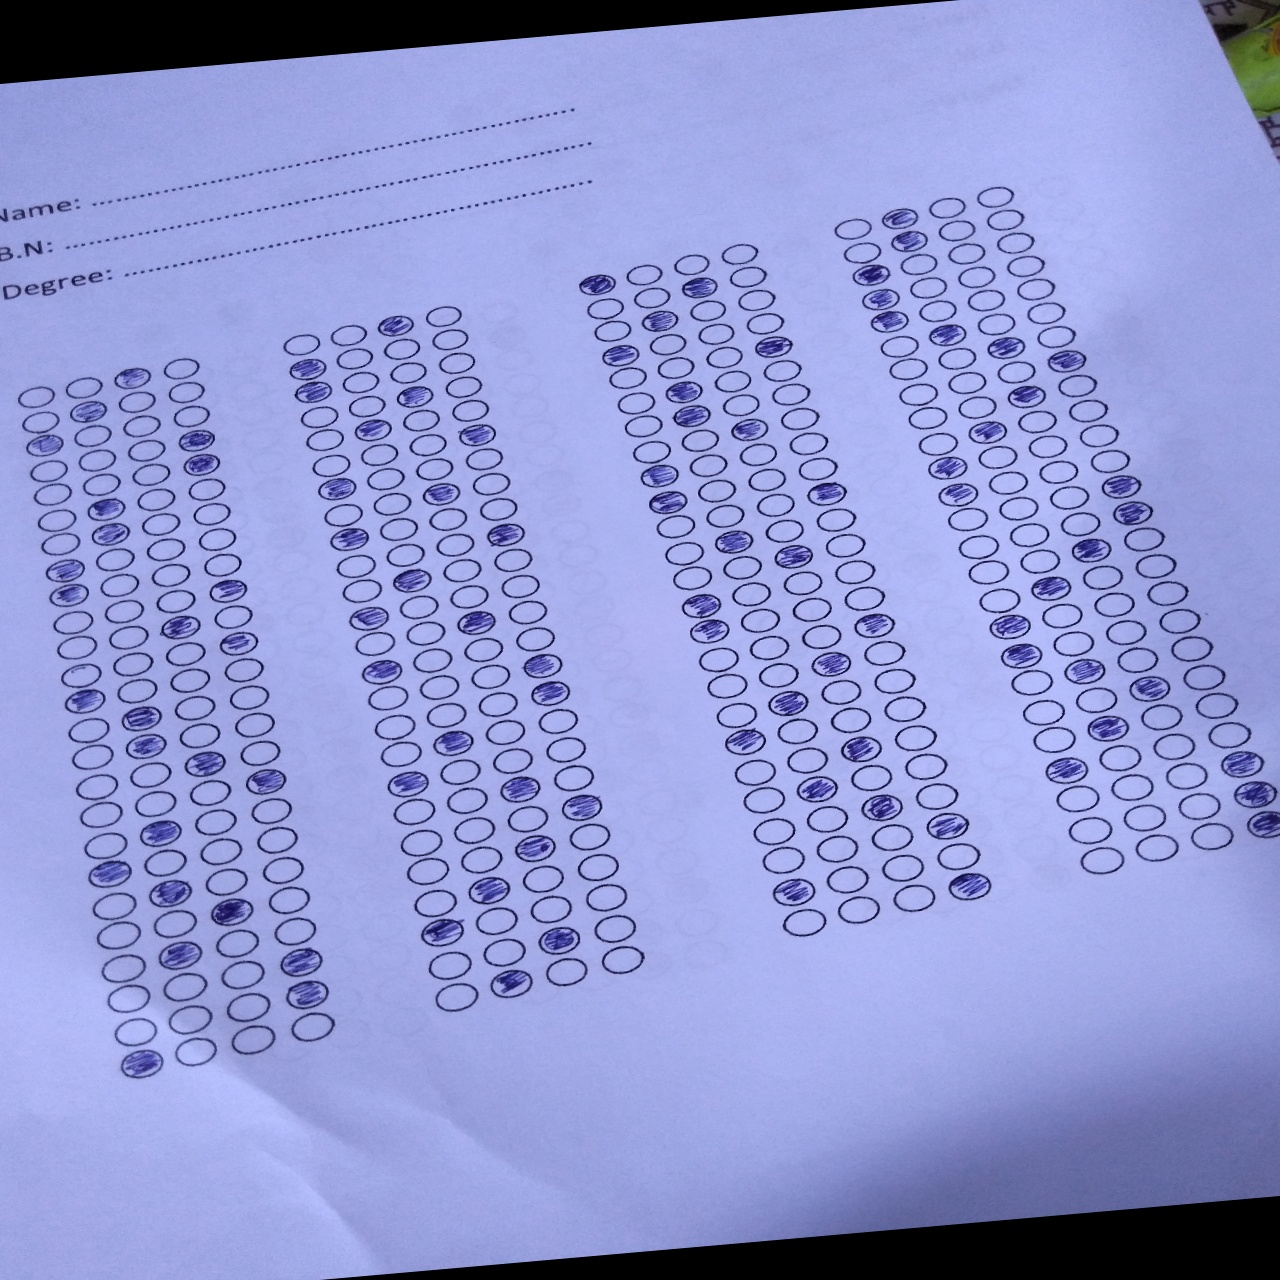not-c: (598, 941, 651, 976), (542, 955, 594, 990), (588, 912, 642, 946), (424, 946, 476, 981), (431, 979, 482, 1014), (288, 1009, 338, 1044), (520, 863, 573, 894), (401, 855, 452, 886), (445, 816, 497, 847), (584, 881, 635, 913), (478, 937, 530, 968), (567, 821, 618, 852), (166, 1002, 215, 1035), (840, 583, 888, 615), (455, 845, 506, 876), (576, 851, 627, 881), (849, 760, 894, 794), (864, 636, 910, 670), (748, 629, 794, 663), (1148, 576, 1193, 610), (1080, 843, 1126, 876), (804, 803, 851, 836), (892, 721, 939, 754), (1135, 550, 1182, 583), (1182, 660, 1228, 693), (1020, 695, 1067, 728), (772, 714, 819, 747), (822, 529, 869, 561), (826, 863, 873, 896), (527, 893, 578, 924), (499, 804, 550, 835), (471, 906, 522, 937), (779, 906, 828, 938), (1111, 801, 1156, 835), (1207, 719, 1252, 753), (1065, 813, 1111, 846), (912, 779, 958, 812), (1163, 760, 1208, 792), (871, 821, 917, 853), (1115, 642, 1160, 675), (1103, 617, 1149, 649), (1157, 605, 1203, 638), (731, 755, 777, 788), (703, 670, 749, 703), (755, 659, 801, 692), (1092, 588, 1138, 621), (1071, 682, 1117, 715), (1096, 741, 1142, 774), (1080, 561, 1125, 594), (225, 990, 272, 1022), (213, 928, 260, 960), (105, 982, 152, 1014), (98, 952, 145, 983), (833, 894, 880, 926), (890, 881, 937, 913), (815, 831, 862, 863), (828, 704, 874, 736), (1194, 689, 1241, 721), (749, 816, 796, 847), (89, 888, 134, 921), (1189, 821, 1233, 853), (799, 620, 844, 653), (142, 846, 188, 878), (162, 971, 207, 1002), (1133, 831, 1179, 863), (1056, 783, 1102, 815), (903, 750, 948, 782), (878, 851, 924, 883), (934, 840, 980, 872), (1177, 790, 1223, 822), (880, 692, 926, 723), (871, 663, 917, 695), (1170, 632, 1216, 663), (695, 644, 741, 675), (713, 697, 758, 729), (1051, 627, 1097, 659), (1137, 702, 1183, 734), (95, 919, 142, 949), (57, 660, 102, 692), (537, 704, 581, 736), (272, 915, 316, 947), (152, 908, 197, 940), (218, 959, 263, 990), (82, 830, 127, 862), (1110, 772, 1155, 804), (818, 678, 863, 709), (1032, 724, 1076, 756), (1010, 667, 1055, 699), (785, 744, 830, 776), (742, 784, 787, 816), (1041, 600, 1085, 632), (1152, 731, 1197, 763), (975, 584, 1020, 615), (833, 554, 878, 586), (113, 1015, 158, 1046), (172, 1036, 218, 1067), (760, 844, 805, 874), (545, 734, 588, 765), (68, 715, 113, 745), (134, 788, 178, 818), (128, 758, 172, 789), (170, 693, 215, 723), (468, 661, 512, 692), (372, 712, 416, 742), (366, 683, 410, 714), (445, 785, 490, 816), (229, 1024, 273, 1055), (946, 506, 990, 537), (815, 505, 859, 536), (462, 634, 508, 663), (552, 763, 595, 794), (188, 777, 231, 808), (438, 756, 482, 787), (423, 700, 467, 730), (417, 670, 461, 701), (397, 591, 441, 621), (200, 836, 244, 866), (169, 666, 213, 695), (75, 771, 120, 801), (177, 721, 222, 750), (79, 799, 123, 829), (377, 738, 422, 768), (399, 828, 443, 857), (392, 797, 436, 826), (195, 806, 239, 836), (413, 888, 457, 918), (787, 429, 831, 458), (1046, 484, 1090, 513), (983, 204, 1028, 233), (1053, 372, 1097, 401), (159, 353, 202, 383), (69, 742, 113, 771), (105, 621, 149, 651), (240, 737, 284, 767), (234, 710, 278, 740), (229, 682, 272, 712), (477, 689, 520, 719), (410, 644, 454, 673), (404, 619, 448, 648), (515, 621, 558, 651), (205, 866, 248, 896), (266, 885, 309, 914), (260, 855, 304, 884), (254, 825, 298, 855), (248, 797, 292, 826), (794, 594, 837, 624), (956, 533, 1000, 563), (988, 468, 1032, 497), (738, 442, 782, 471), (669, 250, 713, 279), (915, 430, 959, 459), (1068, 396, 1111, 425), (898, 250, 941, 279), (907, 272, 951, 301), (1027, 298, 1070, 327), (114, 676, 158, 704), (482, 717, 526, 745), (728, 580, 772, 608), (762, 516, 806, 544), (1088, 447, 1132, 475), (685, 452, 729, 481), (652, 513, 696, 542), (72, 421, 113, 451), (15, 381, 56, 411), (329, 320, 372, 349), (115, 386, 157, 415), (679, 425, 721, 455), (696, 475, 738, 504), (839, 237, 881, 266), (492, 745, 536, 774), (967, 558, 1010, 586), (1017, 546, 1061, 574), (797, 454, 840, 482), (1077, 421, 1121, 449), (995, 229, 1039, 257), (830, 213, 873, 241), (874, 332, 918, 360), (896, 380, 939, 408), (953, 393, 996, 421), (1028, 433, 1071, 461), (973, 445, 1016, 474), (719, 239, 762, 267), (917, 297, 960, 325), (945, 370, 988, 399), (1036, 324, 1080, 352), (29, 457, 70, 486), (56, 631, 97, 660), (945, 241, 989, 268), (18, 406, 60, 434), (506, 597, 549, 625), (113, 649, 155, 678), (1009, 520, 1051, 549), (998, 495, 1040, 523), (721, 553, 763, 581), (745, 467, 788, 495), (755, 489, 797, 517), (1039, 458, 1081, 486), (1123, 526, 1165, 554), (704, 501, 747, 529), (670, 564, 713, 592), (629, 437, 672, 465), (738, 606, 781, 634), (1005, 252, 1047, 280), (886, 355, 928, 383), (778, 404, 821, 433), (1016, 408, 1058, 436), (937, 343, 979, 372), (781, 568, 824, 595), (661, 539, 704, 566), (1014, 275, 1057, 302), (975, 311, 1019, 338), (966, 286, 1009, 313), (955, 263, 999, 290), (172, 402, 212, 431), (53, 607, 93, 636), (280, 329, 321, 358), (64, 373, 105, 401), (908, 404, 949, 433), (354, 629, 396, 656), (223, 658, 265, 685), (1058, 511, 1101, 538), (130, 459, 170, 488), (387, 358, 427, 386), (501, 572, 540, 600), (998, 359, 1041, 384), (139, 510, 181, 537), (365, 467, 406, 493), (165, 639, 206, 666), (712, 368, 753, 395), (702, 343, 743, 370), (647, 331, 688, 358), (622, 263, 663, 290), (720, 392, 761, 418), (622, 413, 663, 440), (933, 218, 978, 243), (122, 411, 161, 440), (443, 556, 482, 584), (359, 440, 399, 467), (333, 345, 373, 372), (311, 451, 350, 478), (307, 425, 347, 452), (298, 404, 338, 431), (184, 476, 224, 503), (127, 435, 166, 462), (345, 392, 384, 418), (340, 368, 380, 395), (383, 336, 423, 363), (409, 433, 449, 459), (414, 456, 454, 483), (470, 470, 510, 497), (437, 350, 477, 377), (433, 327, 472, 354), (422, 302, 462, 329), (38, 508, 77, 535), (32, 481, 72, 508), (100, 570, 139, 597), (82, 471, 122, 498), (377, 515, 417, 542), (136, 486, 176, 513), (202, 551, 241, 578), (191, 501, 231, 527), (493, 547, 533, 574), (481, 495, 520, 522), (105, 597, 145, 624), (156, 588, 196, 615), (216, 602, 256, 629), (336, 552, 376, 579), (687, 298, 728, 324), (770, 381, 811, 407), (615, 389, 656, 415), (586, 294, 627, 320), (428, 506, 467, 533), (401, 408, 440, 435), (464, 445, 503, 472), (450, 397, 489, 424), (43, 530, 82, 557), (95, 546, 134, 573), (79, 447, 117, 474), (147, 535, 185, 561), (198, 524, 237, 551), (373, 491, 411, 518), (324, 502, 362, 529), (343, 576, 382, 602), (165, 380, 205, 406), (151, 561, 191, 587), (435, 532, 475, 558), (976, 183, 1016, 209), (744, 309, 784, 335), (762, 358, 802, 383), (629, 284, 669, 309), (928, 193, 968, 219), (607, 365, 647, 390), (695, 320, 736, 345), (588, 319, 629, 343), (736, 288, 775, 314), (727, 266, 767, 291), (655, 354, 695, 379), (444, 375, 483, 400)
taken-c: (720, 726, 767, 760), (284, 978, 329, 1012), (947, 869, 993, 903), (998, 638, 1044, 670), (806, 647, 853, 680), (767, 687, 813, 720), (685, 617, 731, 649), (803, 476, 850, 509), (488, 967, 536, 999), (421, 915, 467, 948), (118, 1047, 164, 1080), (1231, 778, 1276, 811), (1041, 754, 1087, 787), (857, 791, 903, 824), (770, 876, 816, 908), (986, 611, 1032, 644), (838, 731, 884, 764), (795, 772, 840, 805), (1110, 496, 1156, 529), (935, 477, 981, 510), (676, 588, 722, 621), (850, 608, 896, 641), (87, 858, 134, 890), (157, 940, 204, 972), (207, 897, 254, 928), (279, 945, 324, 978), (925, 810, 971, 842), (1063, 656, 1109, 688), (1128, 674, 1173, 706), (1085, 712, 1131, 743), (1028, 571, 1074, 602), (710, 527, 756, 559), (770, 542, 816, 573), (147, 879, 193, 910), (536, 925, 581, 955), (468, 874, 511, 905), (431, 728, 475, 758), (386, 769, 429, 799), (244, 765, 287, 795), (515, 833, 558, 863), (560, 792, 604, 822), (1220, 749, 1264, 778), (1070, 535, 1111, 565), (522, 651, 564, 680), (218, 628, 260, 658), (347, 604, 389, 633), (291, 376, 333, 406), (139, 818, 182, 847), (499, 774, 542, 803), (86, 493, 127, 523), (23, 430, 64, 459), (486, 519, 527, 549), (392, 566, 433, 595), (316, 474, 358, 503), (1099, 472, 1141, 502), (377, 312, 418, 341), (287, 354, 329, 382), (456, 610, 498, 638), (158, 613, 200, 641), (47, 581, 89, 610), (120, 704, 162, 733), (926, 321, 968, 349), (422, 481, 462, 510), (456, 418, 496, 448), (45, 556, 84, 585), (111, 363, 152, 392), (182, 449, 223, 477), (361, 658, 402, 686), (329, 526, 370, 554), (352, 416, 393, 444), (394, 382, 435, 410), (207, 577, 248, 605), (89, 520, 130, 549), (184, 749, 225, 777), (125, 731, 166, 760), (64, 687, 105, 715), (985, 333, 1026, 361), (67, 399, 109, 425), (1245, 809, 1280, 840), (927, 454, 968, 481), (669, 403, 710, 430), (967, 418, 1008, 445), (851, 261, 892, 288), (662, 377, 701, 406), (1005, 384, 1047, 410), (175, 425, 215, 452), (648, 489, 688, 516), (680, 275, 720, 302), (860, 285, 900, 312), (888, 229, 928, 256), (636, 463, 678, 489), (731, 417, 772, 443), (753, 333, 794, 359), (640, 308, 681, 334), (878, 206, 919, 232), (869, 308, 910, 334), (1046, 350, 1085, 376), (577, 271, 617, 297), (599, 343, 640, 368)
